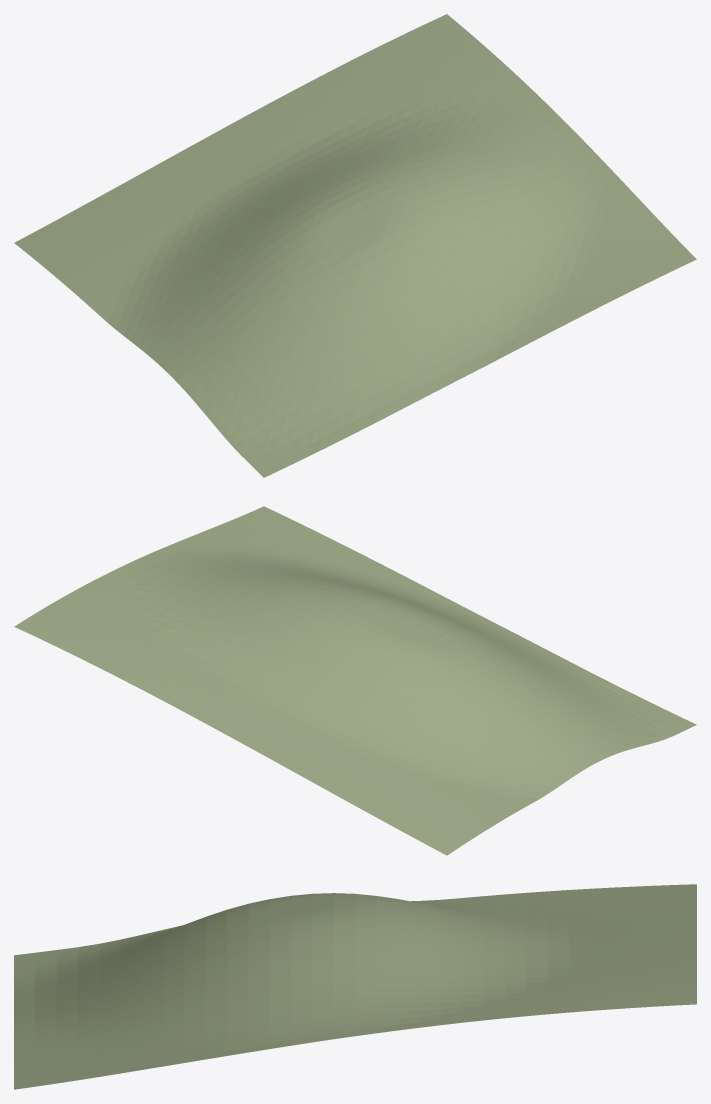
Rendered from desert-23-4.glb.
3 renders of one model, top to bottom at view 1: azimuth 30°, elevation 25°; view 2: azimuth 150°, elevation 25°; view 3: azimuth 270°, elevation 25°, orthographic. The views are drawn at different scales.
Parts seen in each view (by area): view 1: desert-23-4; view 2: desert-23-4; view 3: desert-23-4.
Part boxes in pixels (left/top/right/bottom): desert-23-4: left=14, top=14, right=696, bottom=477; desert-23-4: left=14, top=506, right=696, bottom=855; desert-23-4: left=14, top=884, right=696, bottom=1089.
Bounding box in the file's own units: 512 × 198 × 512.
